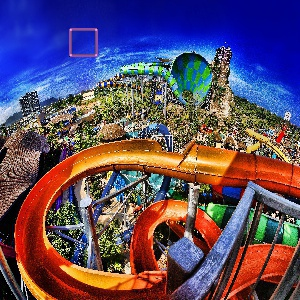square: (69, 28, 99, 58)
